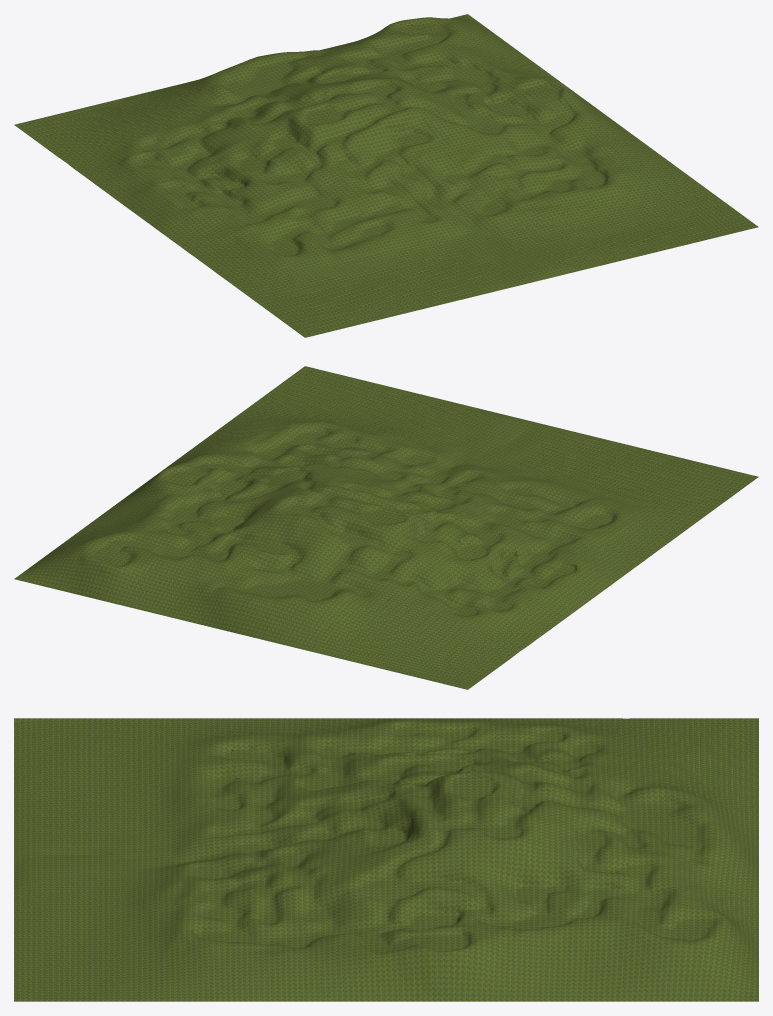
Rendered from Ground.fbx.
3 renders of one model, top to bottom at view 1: azimuth 30°, elevation 25°; view 2: azimuth 150°, elevation 25°; view 3: azimuth 270°, elevation 25°, orthographic. The views are drawn at different scales.
Visible parts, largest first — view 1: SM_a_005_natagumo_ground_01a; view 2: SM_a_005_natagumo_ground_01a; view 3: SM_a_005_natagumo_ground_01a.
Part boxes in pixels (left/top/right/bottom): SM_a_005_natagumo_ground_01a: left=14, top=14, right=758, bottom=337; SM_a_005_natagumo_ground_01a: left=14, top=366, right=758, bottom=689; SM_a_005_natagumo_ground_01a: left=14, top=718, right=758, bottom=1001.
Size of the model in its own units: 47216 by 4620 by 52429.
